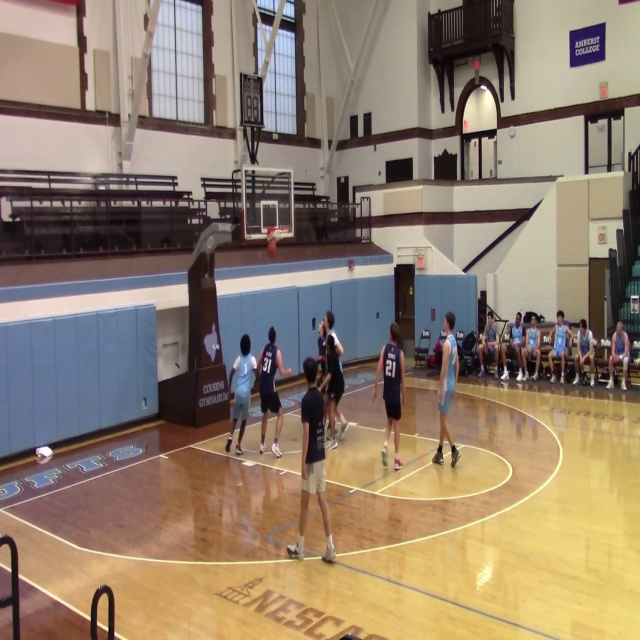Basketball: (36, 446, 53, 458), (267, 241, 277, 256)
